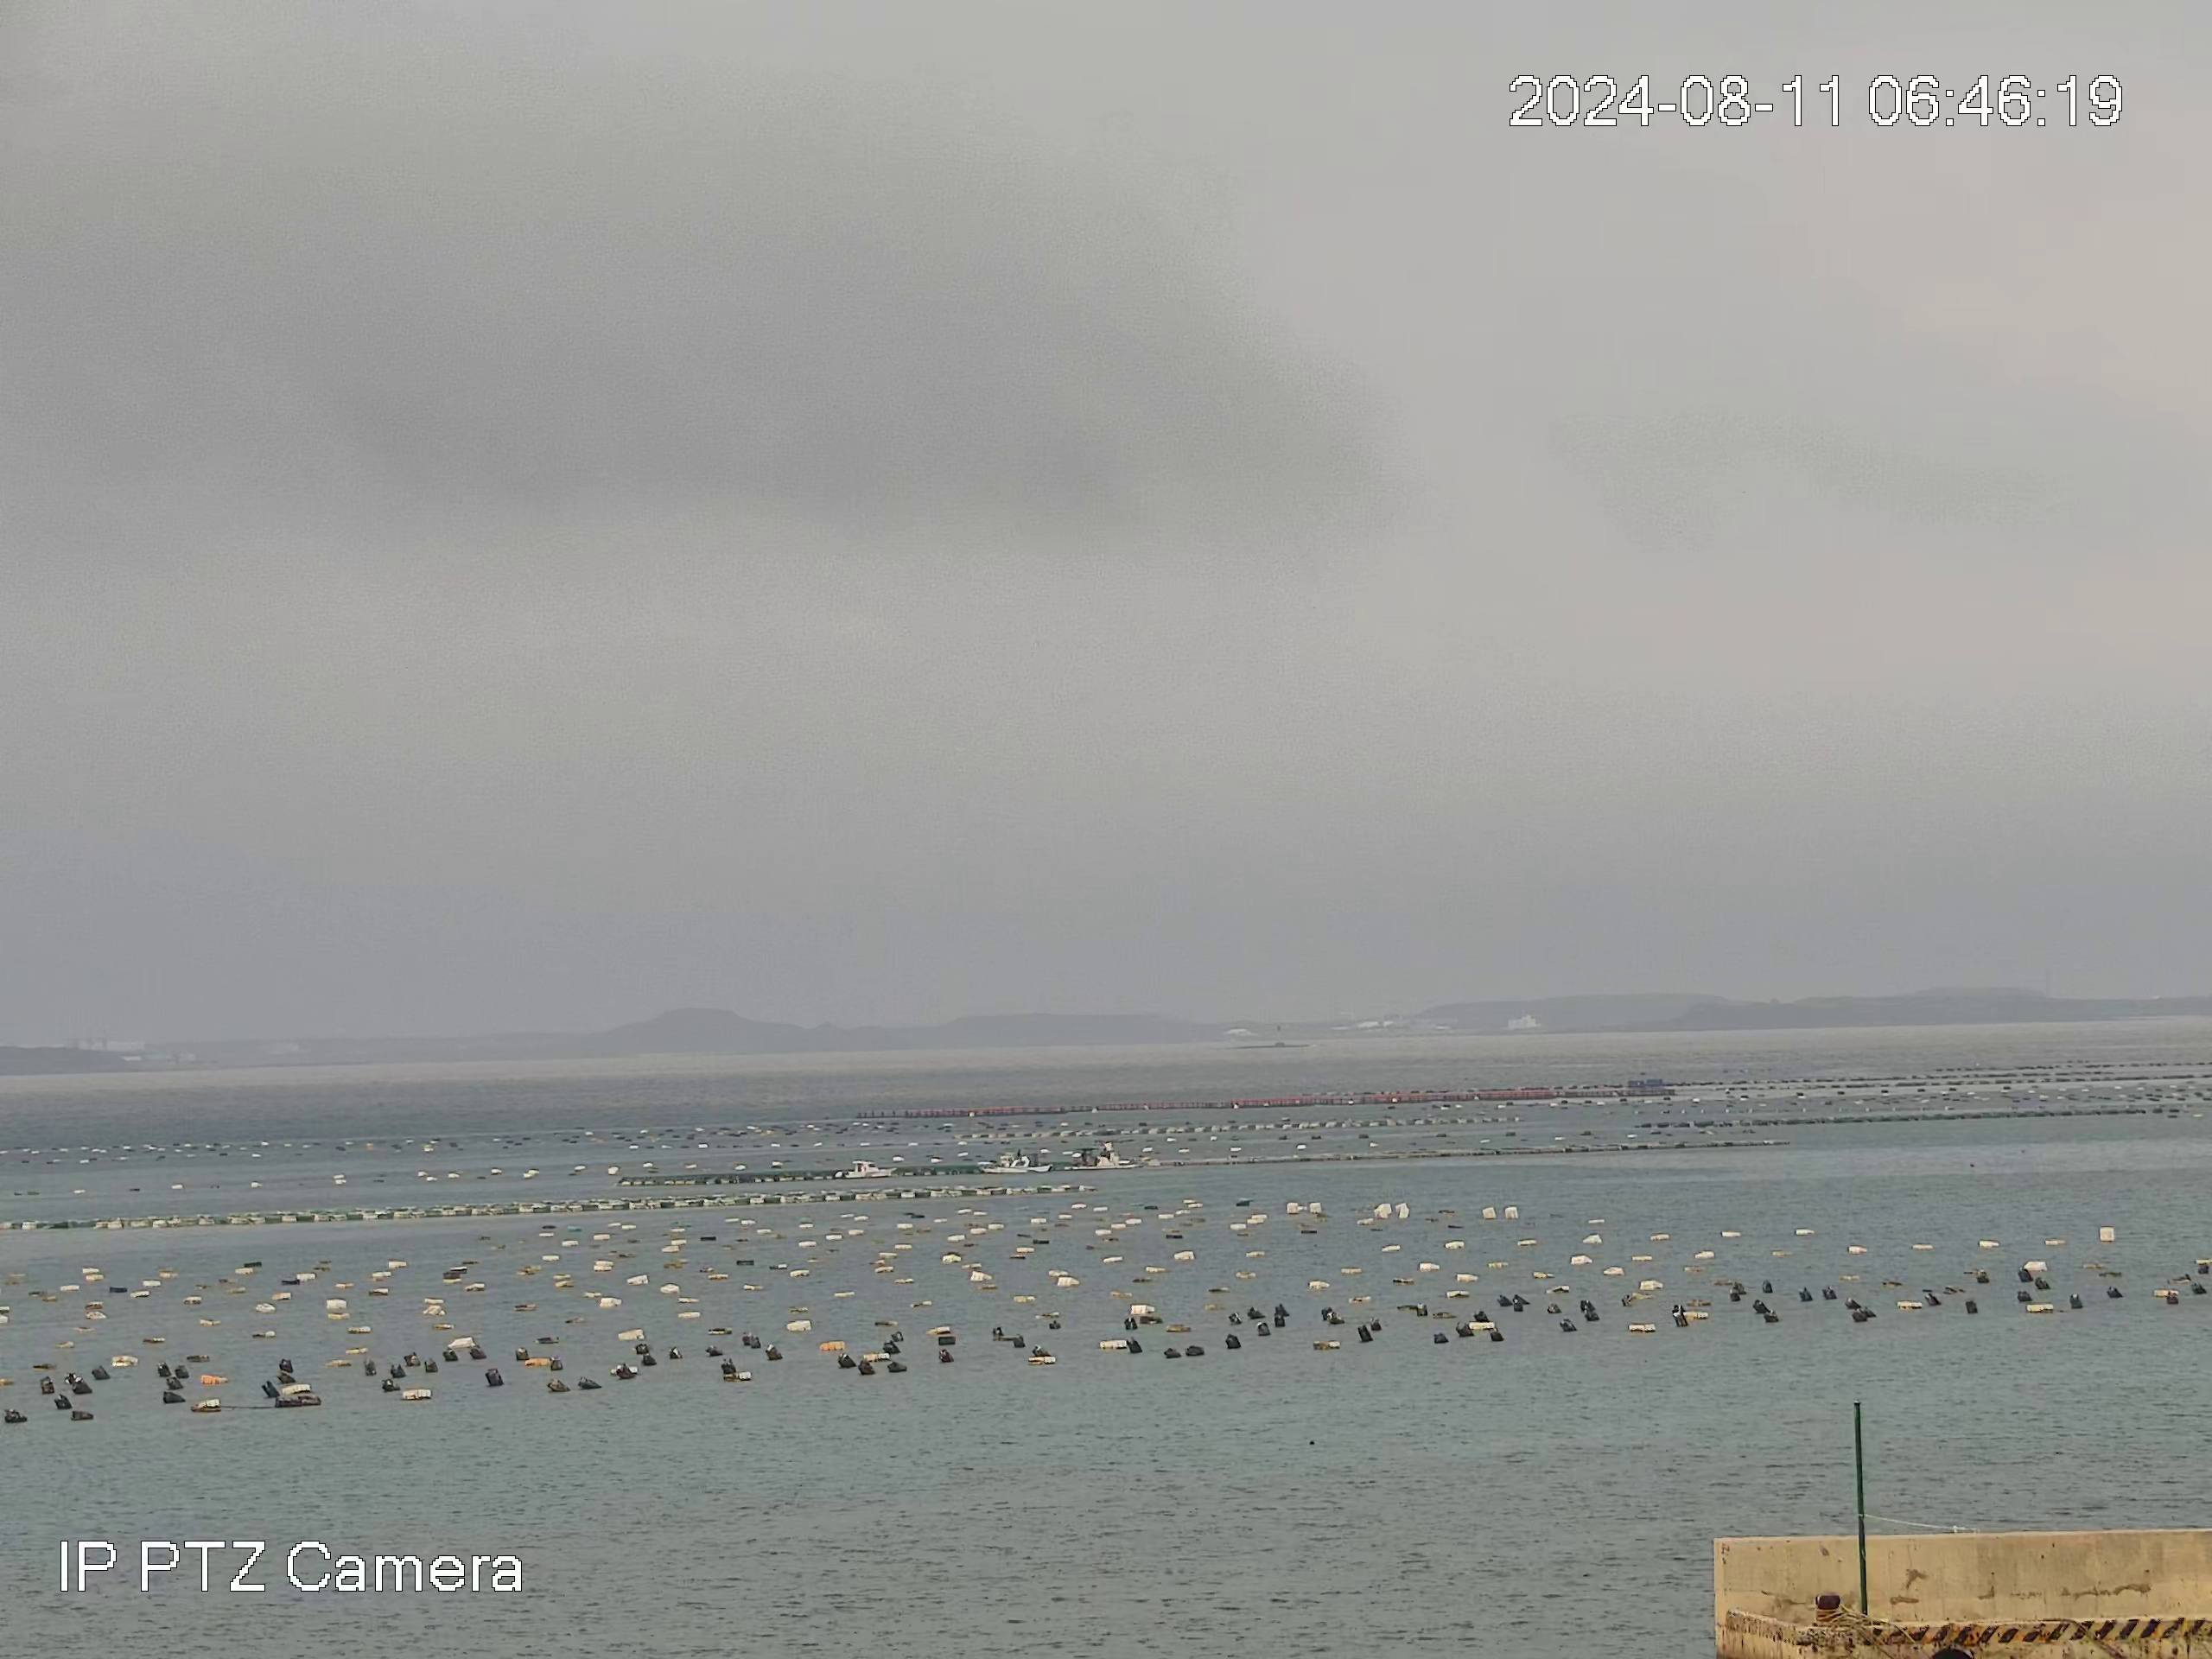boat: (975, 1152, 1054, 1175), (833, 1159, 895, 1180), (1062, 1154, 1115, 1171)
